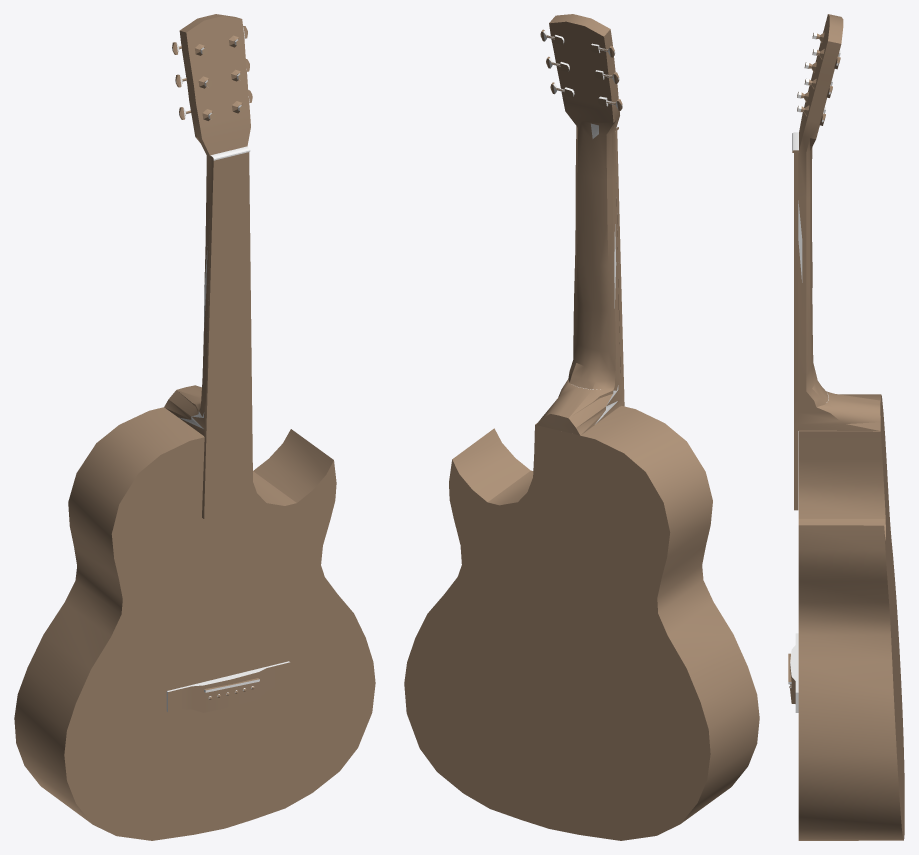
Rendered from AcousticGuitar.obj.
3 views of the same model, side by side, from view 1: azimuth 30°, elevation 25°; view 2: azimuth 150°, elevation 25°; view 3: azimuth 270°, elevation 25° (orthographic).
Parts seen in each view (by area): view 1: Mesh20 Larrivee_C1 Model, Mesh19 Larrivee_C1 Model, Mesh21 Larrivee_C1 Model; view 2: Mesh20 Larrivee_C1 Model, Mesh19 Larrivee_C1 Model; view 3: Mesh20 Larrivee_C1 Model, Mesh19 Larrivee_C1 Model, Mesh21 Larrivee_C1 Model.
Part boxes in pixels (x1,y1,x2,y2): Mesh20 Larrivee_C1 Model: (14, 407, 375, 840); Mesh19 Larrivee_C1 Model: (164, 14, 253, 519); Mesh21 Larrivee_C1 Model: (166, 661, 290, 712); Mesh20 Larrivee_C1 Model: (404, 406, 759, 840); Mesh19 Larrivee_C1 Model: (536, 14, 624, 435); Mesh20 Larrivee_C1 Model: (798, 394, 904, 840); Mesh19 Larrivee_C1 Model: (794, 14, 880, 510); Mesh21 Larrivee_C1 Model: (790, 633, 798, 712).
Bounding box in the file's own units: 1117 × 2735 × 364.
